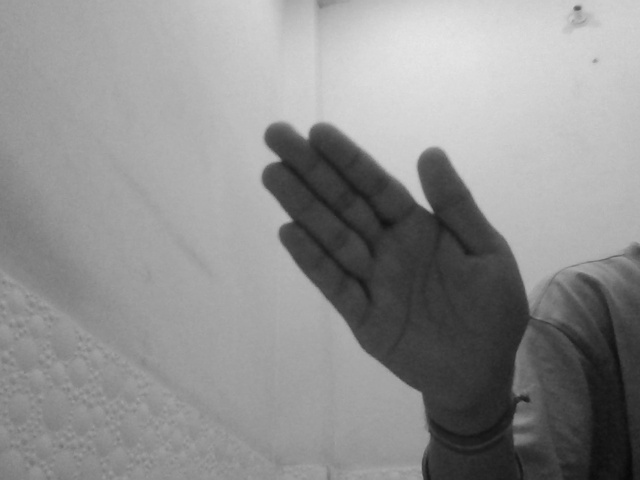Hello: (257, 116, 533, 411)
